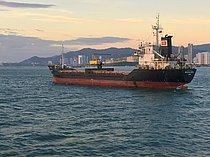Ship: (47, 12, 200, 95)
